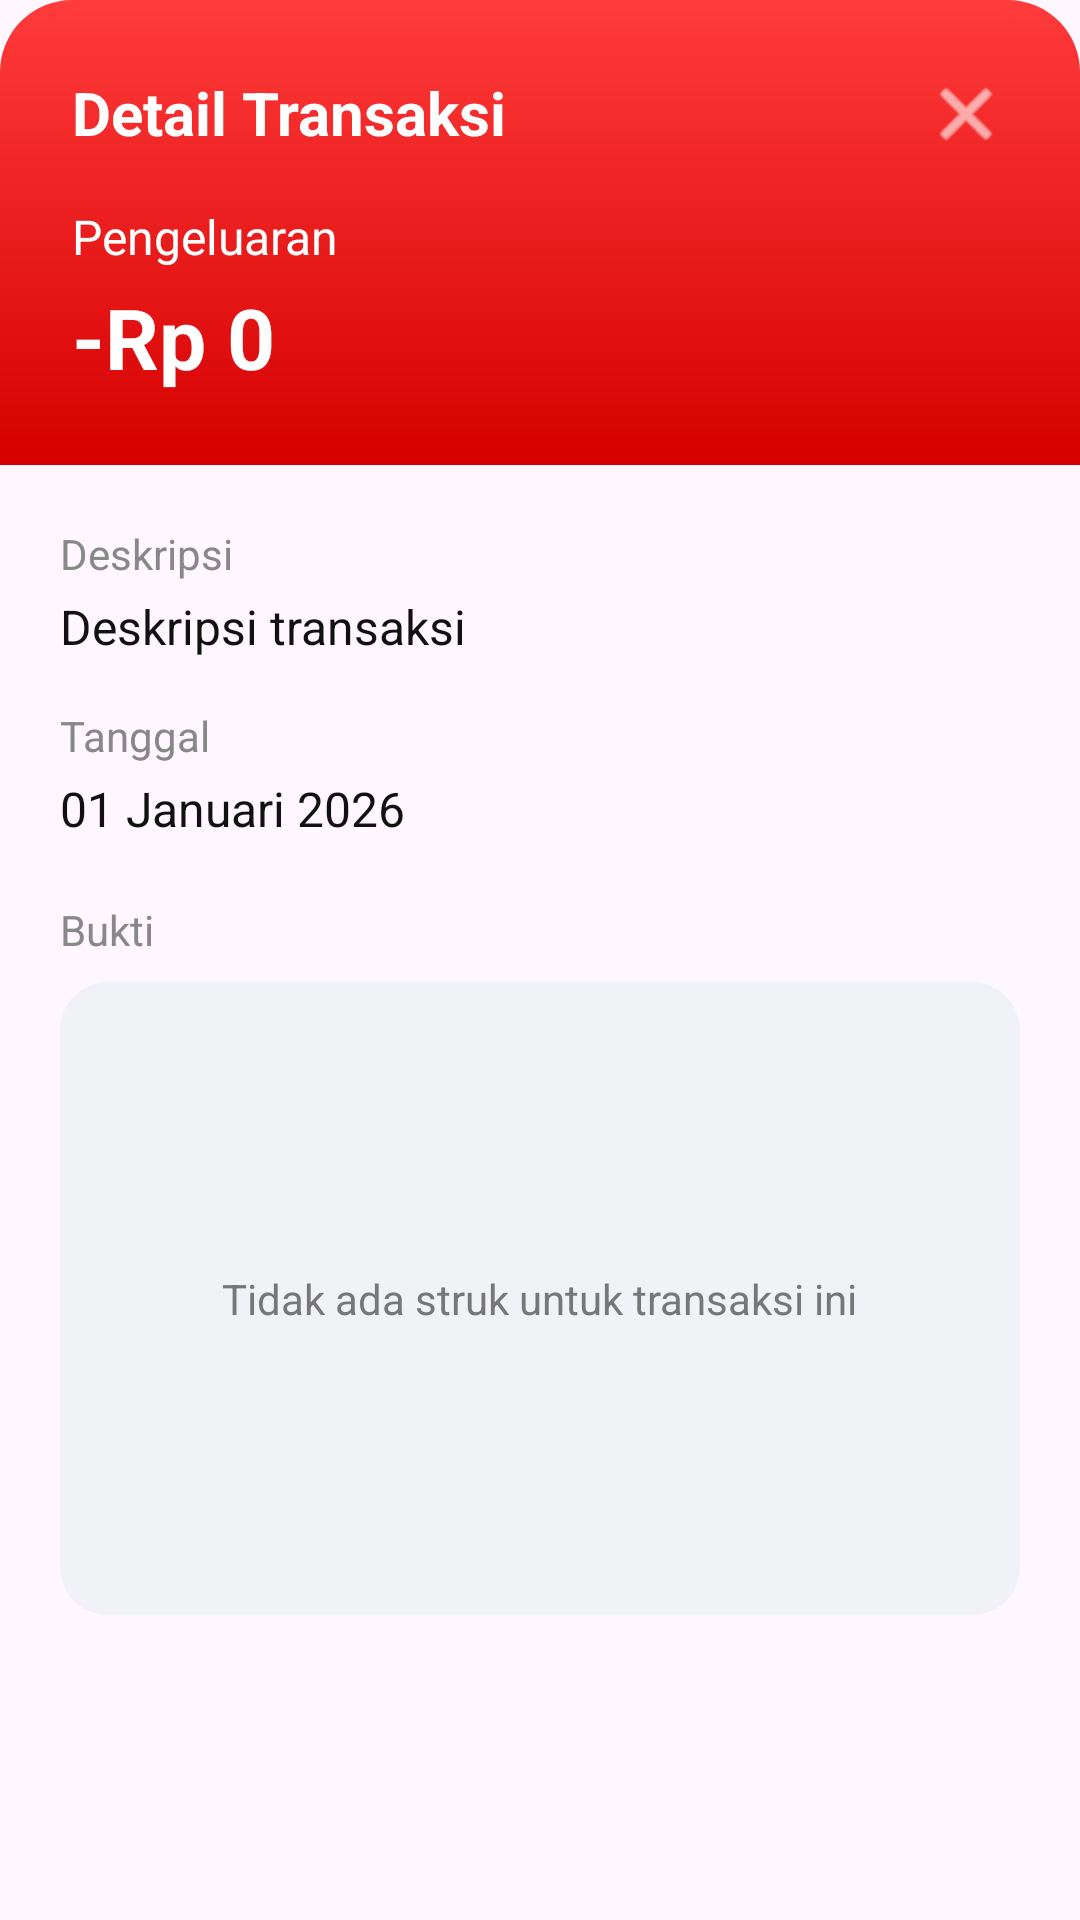

Icons on this 1080 x 1920 Android screen, each with its box as {"left": x1, "top": y1, "right": x2, "bottom": y2}:
close clear cancel: {"left": 940, "top": 88, "right": 992, "bottom": 140}
